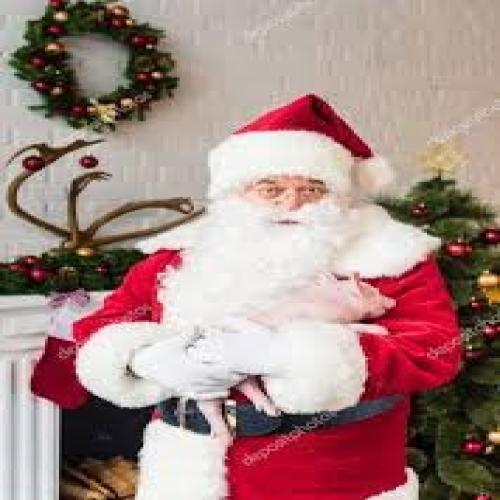Santa: (72, 93, 466, 498)
